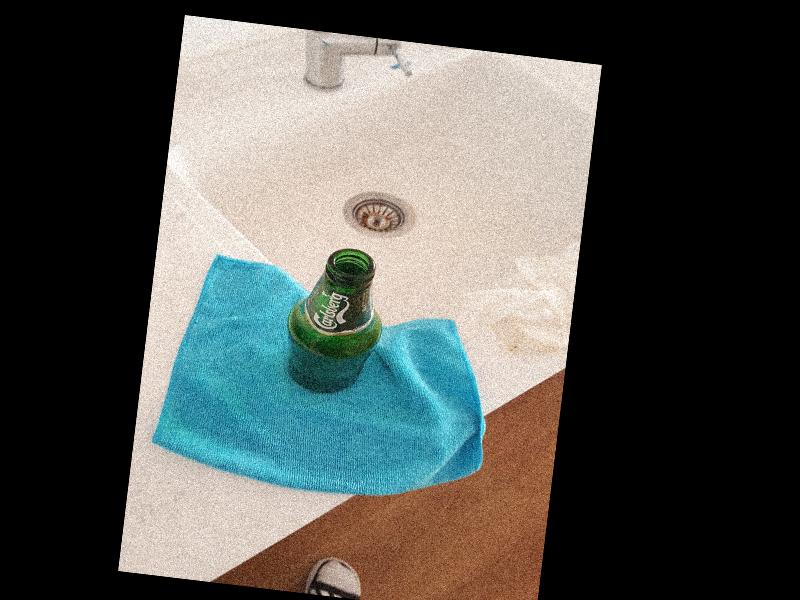Beer: (283, 244, 391, 400)
